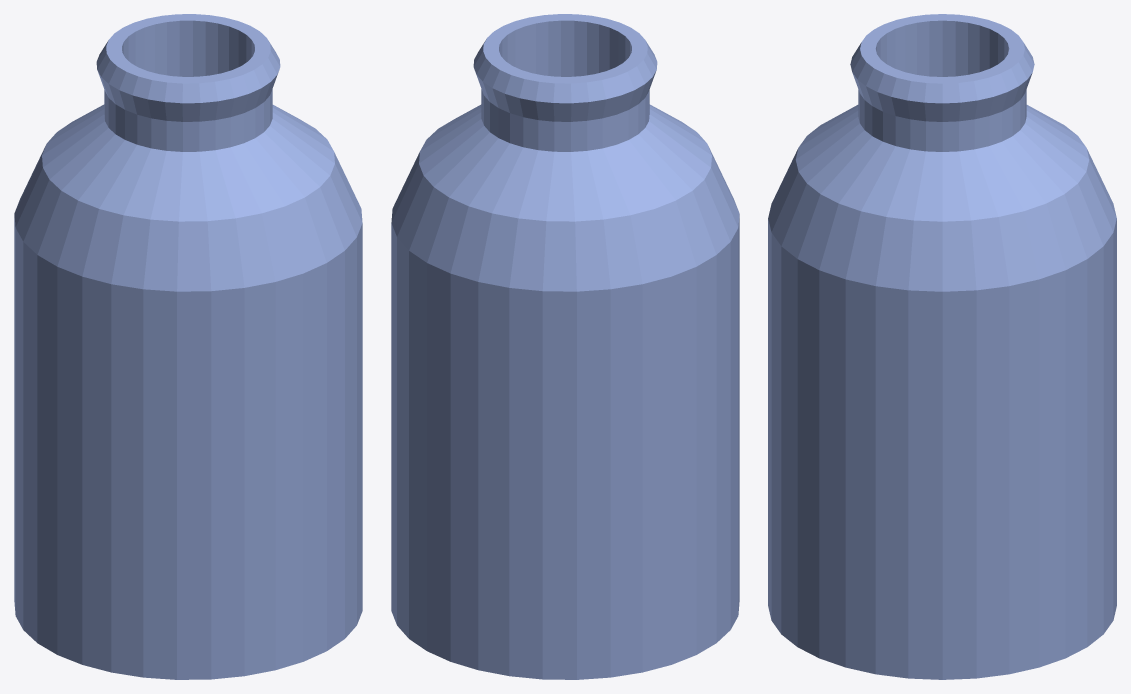
The model's file is Bottle_Water.glb.
The picture shows the model from 3 angles, left to right: view 1: azimuth 30°, elevation 25°; view 2: azimuth 150°, elevation 25°; view 3: azimuth 270°, elevation 25°; orthographic projection.
Visible parts, largest first — view 1: bottle_water.001; view 2: bottle_water.001; view 3: bottle_water.001.
Part boxes in pixels (x1,y1,x2,y2): bottle_water.001: [14, 14, 362, 679]; bottle_water.001: [391, 14, 739, 679]; bottle_water.001: [768, 14, 1116, 679].
Bounding box in the file's own units: 0.254 × 0.448 × 0.254.
